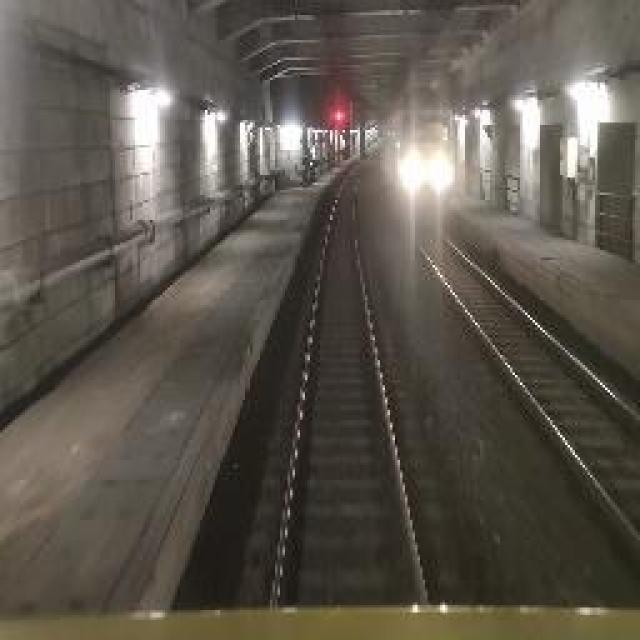rail: (236, 157, 462, 606)
